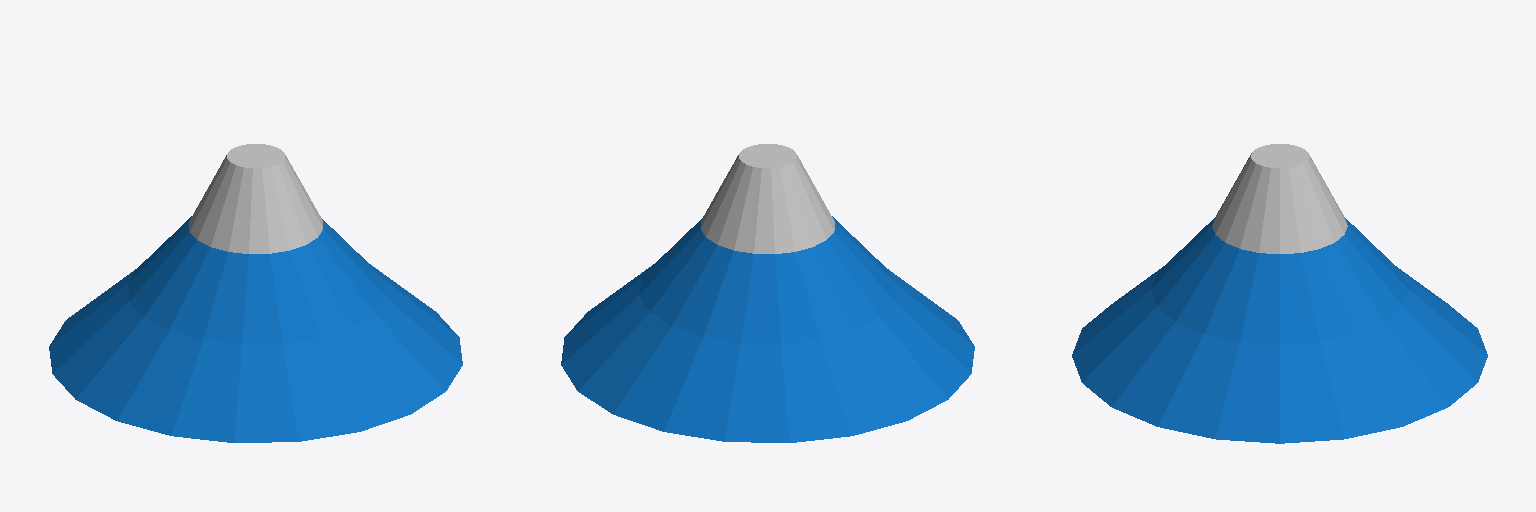
The model's file is fuji.obj.
3 renders of one model, left to right at view 1: azimuth 30°, elevation 25°; view 2: azimuth 150°, elevation 25°; view 3: azimuth 270°, elevation 25°, orthographic.
Visible parts, largest first — view 1: obj1; view 2: obj1; view 3: obj1.
Part boxes in pixels (left/top/right/bottom): obj1: left=49, top=144, right=462, bottom=442; obj1: left=561, top=144, right=974, bottom=442; obj1: left=1072, top=144, right=1487, bottom=443.
Size of the model in its own units: 2.98 by 1.58 by 2.98.